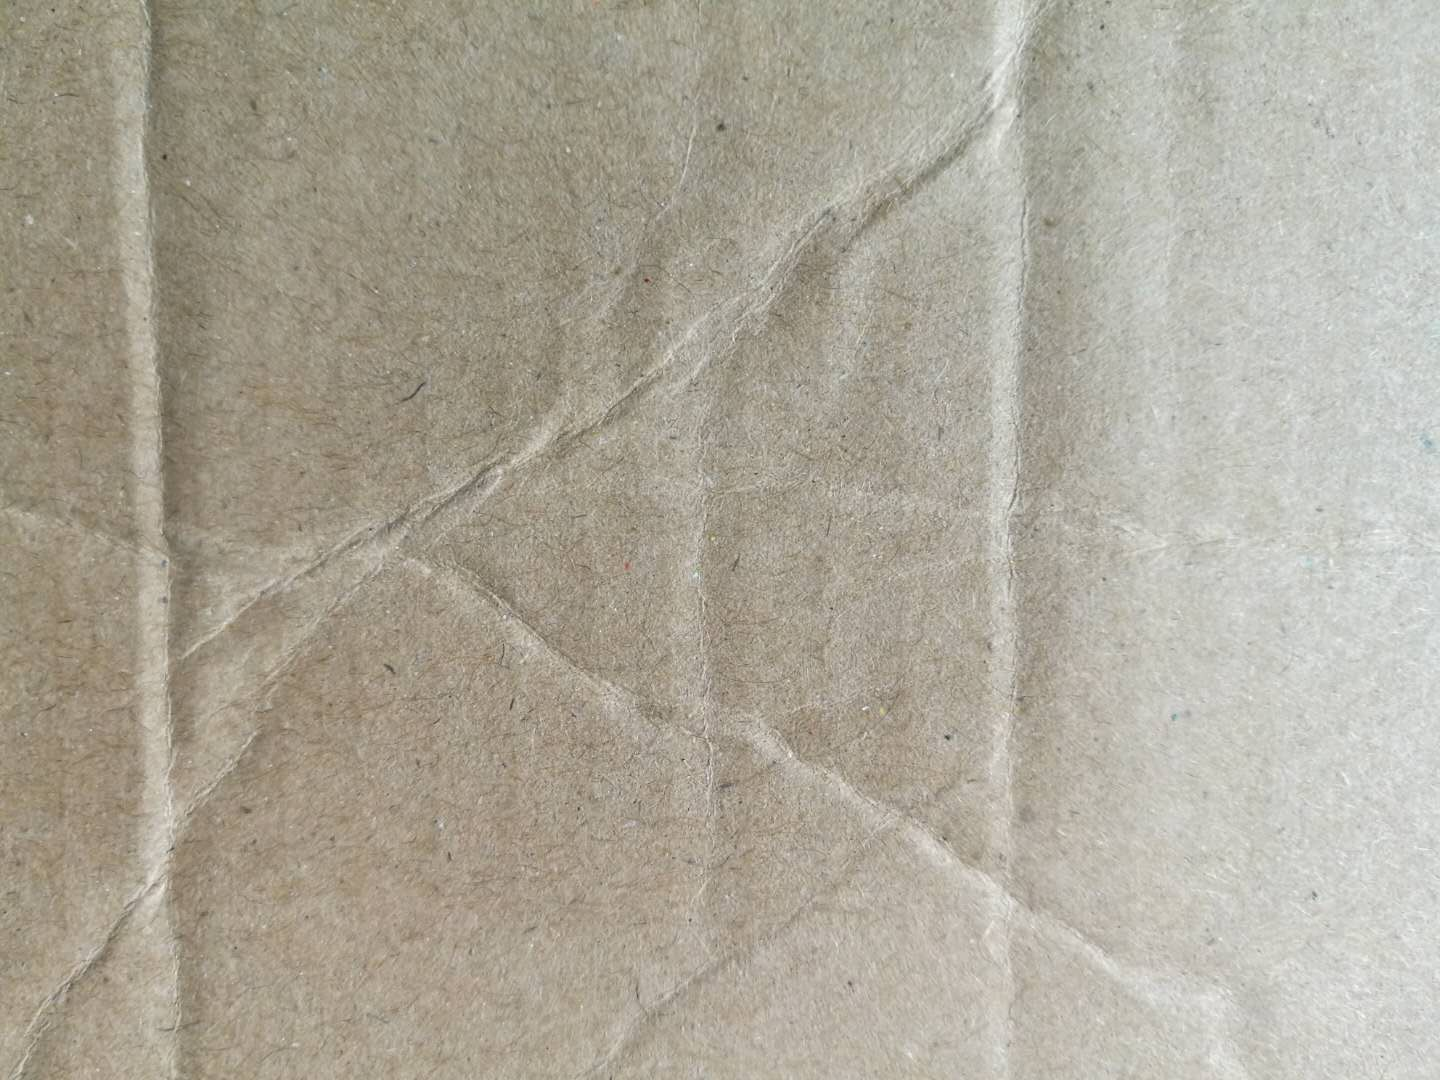defect: (6, 6, 1363, 1080), (88, 2, 270, 1077), (957, 3, 1125, 1080)
